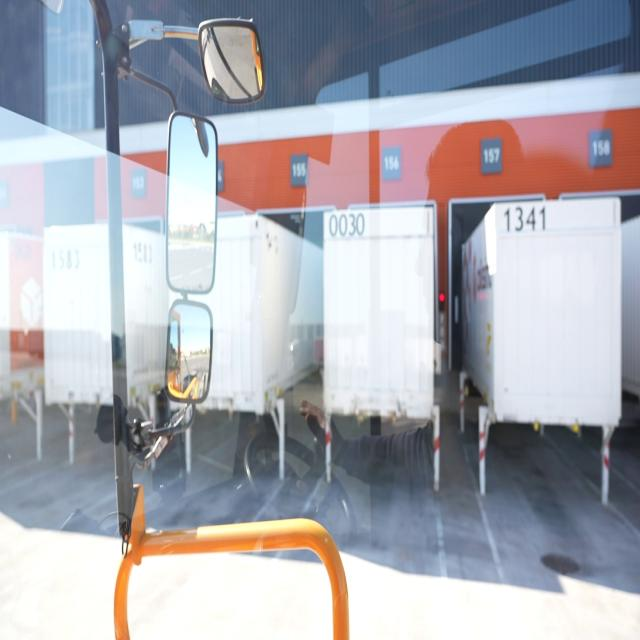Code: (502, 200, 548, 241), (327, 208, 368, 240)
